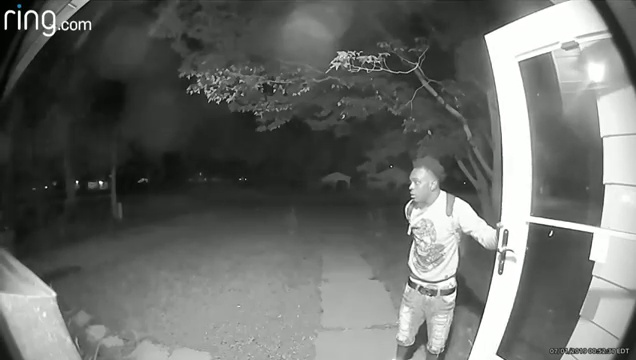face: (409, 172, 426, 202)
